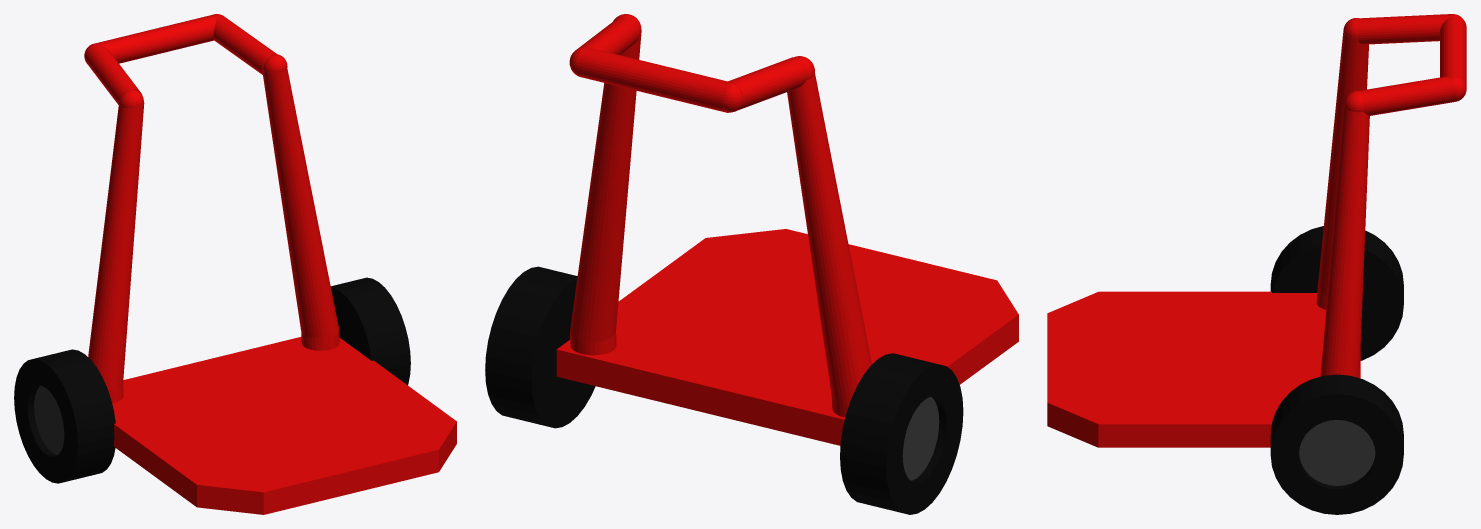
Rendered from dolly.fbx.
The picture shows the model from 3 angles, left to right: view 1: azimuth 30°, elevation 25°; view 2: azimuth 150°, elevation 25°; view 3: azimuth 270°, elevation 25°; orthographic projection. The views are drawn at different scales.
Visible parts, largest first — view 1: Cube, HandleBase, Wheel2, Wheel1, Cylinder, HandleTop, HandleTop.001; view 2: Cube, HandleBase, Wheel2, Wheel1, Cylinder, HandleTop.001, HandleTop; view 3: Cube, Wheel1, HandleBase, Wheel2, HandleTop, HandleTop.001, Cylinder.
Boxes of the visible parts, left/top/right/bottom form: Cube: left=112, top=337, right=456, bottom=514; HandleBase: left=88, top=69, right=339, bottom=403; Wheel2: left=14, top=349, right=115, bottom=483; Wheel1: left=330, top=277, right=410, bottom=385; Cylinder: left=96, top=14, right=218, bottom=63; HandleTop: left=213, top=16, right=276, bottom=74; HandleTop.001: left=85, top=45, right=142, bottom=104; Cube: left=556, top=229, right=1018, bottom=445; HandleBase: left=570, top=30, right=871, bottom=417; Wheel2: left=840, top=353, right=963, bottom=514; Wheel1: left=485, top=266, right=595, bottom=428; Cylinder: left=578, top=47, right=728, bottom=112; HandleTop.001: left=728, top=57, right=807, bottom=110; HandleTop: left=578, top=17, right=639, bottom=54; Cube: left=1047, top=291, right=1360, bottom=447; Wheel1: left=1270, top=374, right=1403, bottom=514; HandleBase: left=1316, top=32, right=1369, bottom=377; Wheel2: left=1270, top=226, right=1403, bottom=360; HandleTop: left=1358, top=76, right=1454, bottom=115; HandleTop.001: left=1357, top=14, right=1450, bottom=44; Cylinder: left=1440, top=16, right=1466, bottom=86.
Bounding box in the file's own units: 602 × 636 × 629.
